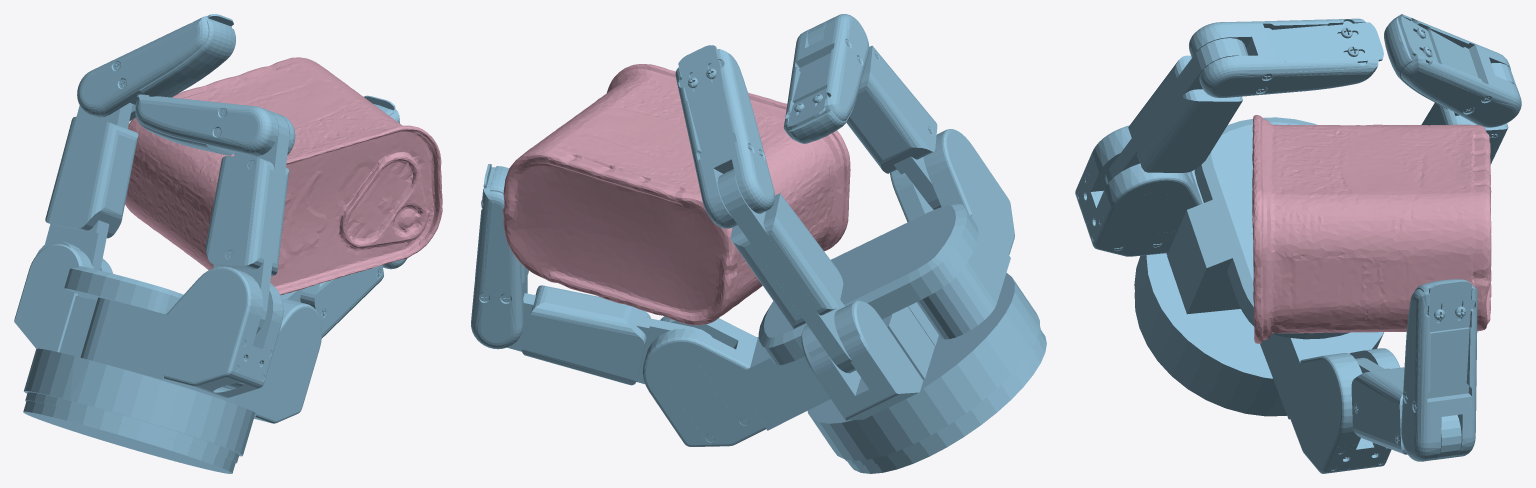
The picture shows the model from 3 angles, left to right: view 1: azimuth 30°, elevation 25°; view 2: azimuth 150°, elevation 25°; view 3: azimuth 270°, elevation 25°; orthographic projection. The views are drawn at different scales.
Visible parts, largest first — view 1: world; view 2: world; view 3: world.
Part boxes in pixels (x1,y1,x2,y2): world: (14,14,442,473); world: (471,14,1046,473); world: (1075,14,1521,473).
Size of the model in its own units: 0.1992 by 0.1696 by 0.1559.
